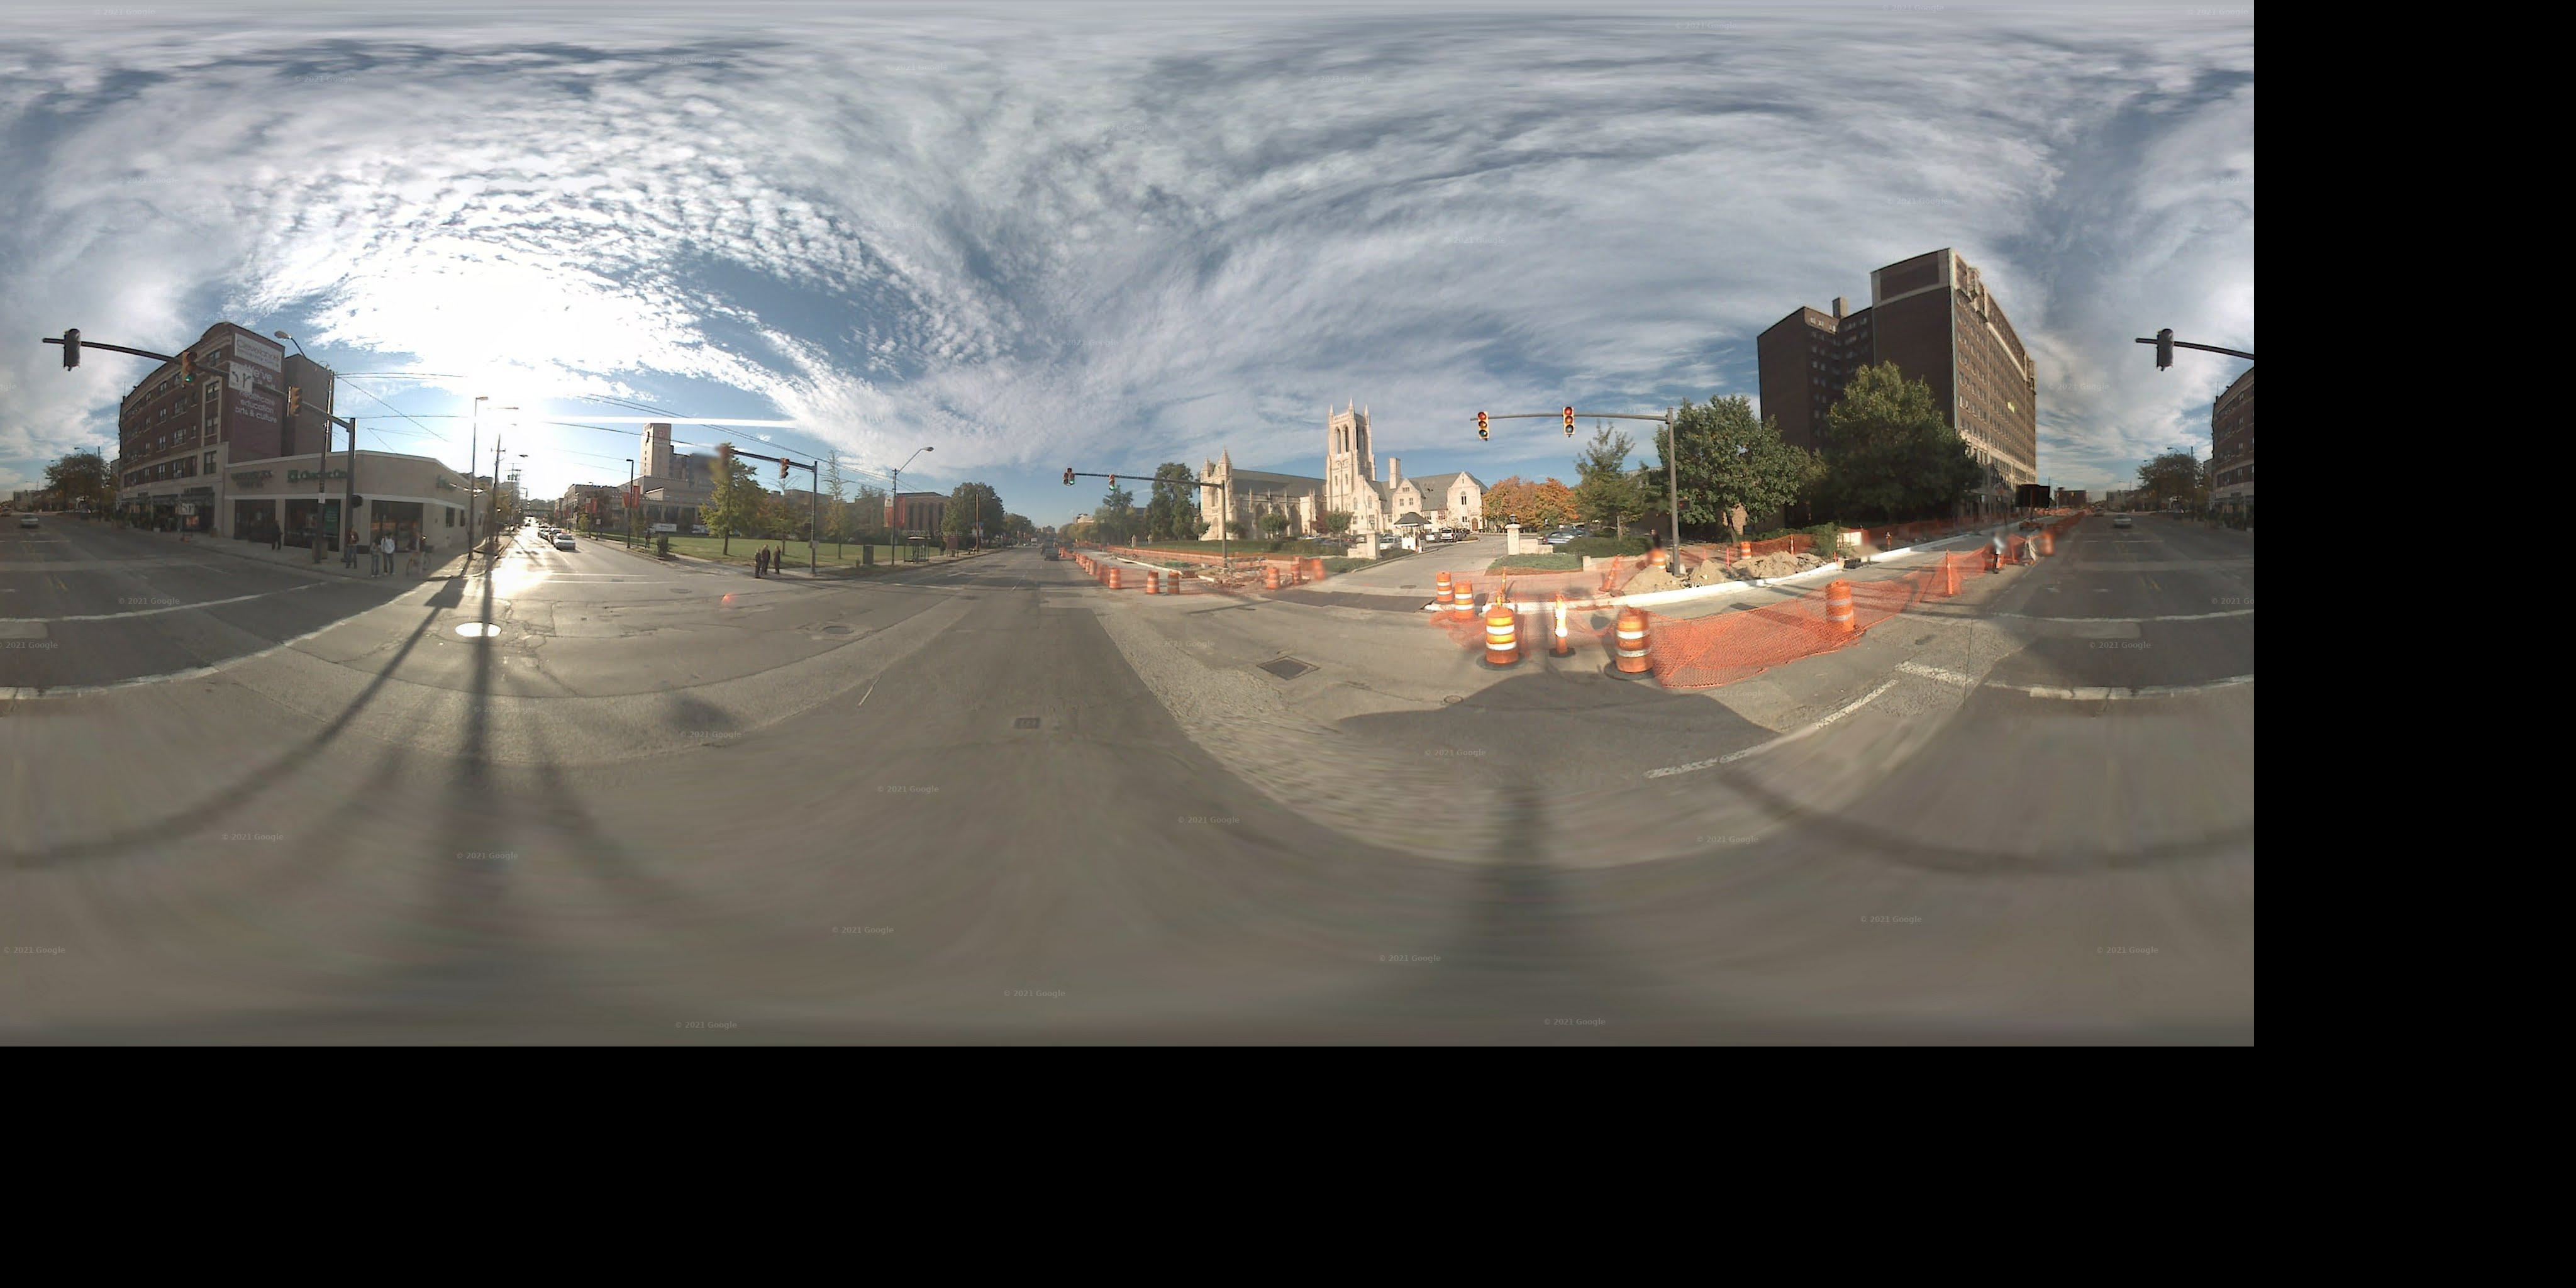Blocked Ramp: (1299, 565, 1357, 591)
Curb Ramp: (355, 559, 414, 593), (721, 562, 757, 585)
Missing Curb Ramp: (775, 567, 836, 585)
